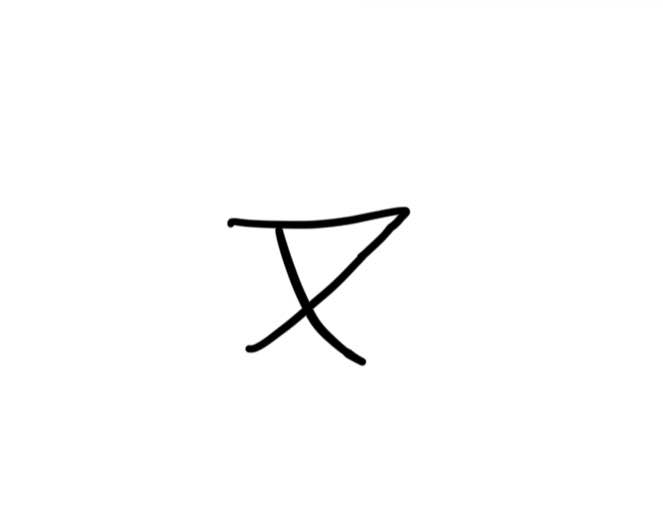nu: (198, 197, 418, 385)
